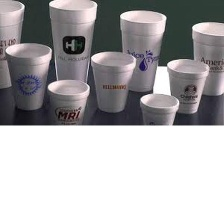paper_cup: (45, 0, 100, 88), (116, 6, 168, 95), (2, 38, 54, 113), (87, 47, 139, 115), (163, 56, 211, 117), (189, 18, 224, 99), (0, 0, 28, 92), (44, 76, 91, 124), (135, 91, 181, 124)
